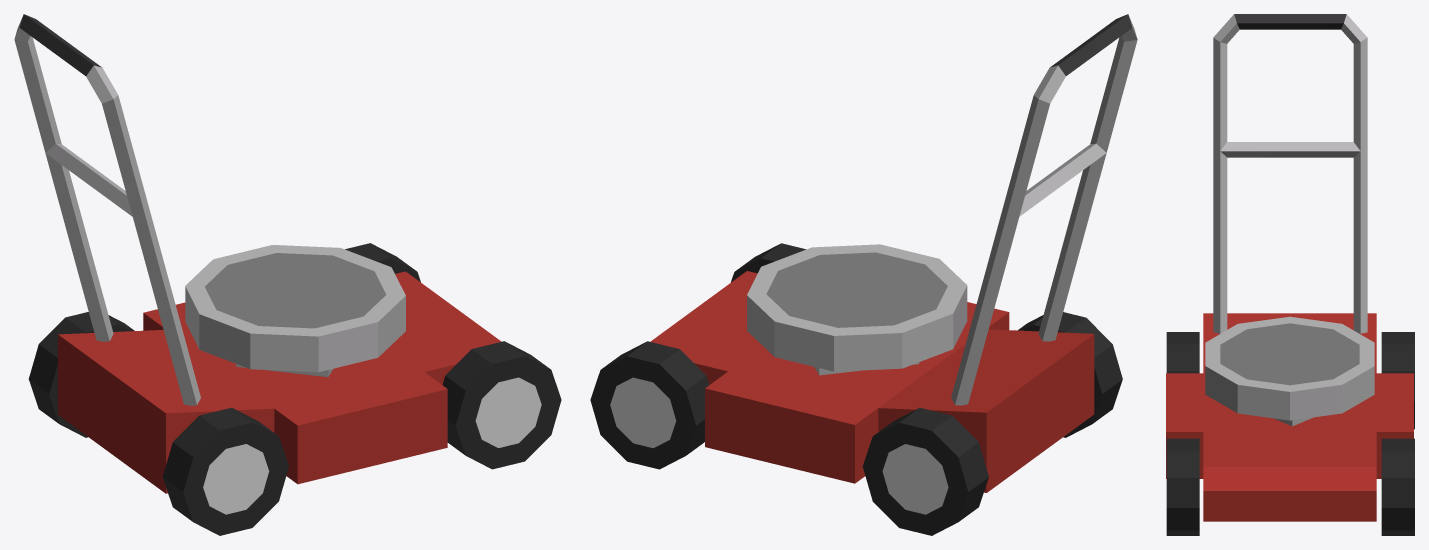
File: SM_grassCutter.gltf
3 renders of one model, left to right at view 1: azimuth 30°, elevation 25°; view 2: azimuth 150°, elevation 25°; view 3: azimuth 270°, elevation 25°, orthographic. The views are drawn at different scales.
Parts seen in each view (by area): view 1: SM_grassCutter; view 2: SM_grassCutter; view 3: SM_grassCutter.
Part boxes in pixels (<box>): SM_grassCutter: <box>14,14,561,535</box>; SM_grassCutter: <box>590,14,1137,535</box>; SM_grassCutter: <box>1166,14,1414,535</box>.
Bounding box in the file's own units: 1.01 × 1.03 × 0.6266.
Materials: 1 (1 with a texture image).
